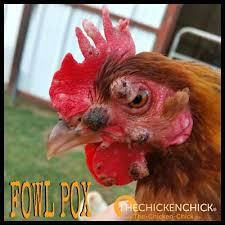AbNormal: (43, 10, 193, 176), (50, 8, 136, 126)
